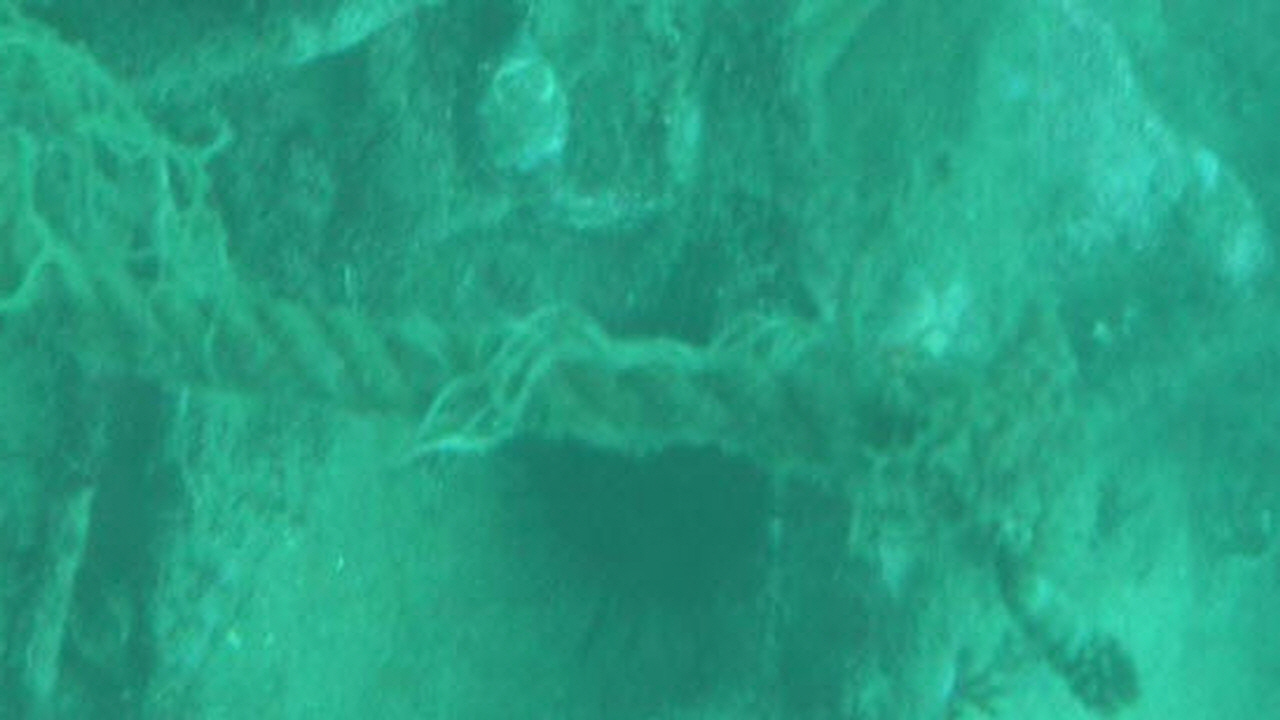rope: (61, 272, 862, 459)
